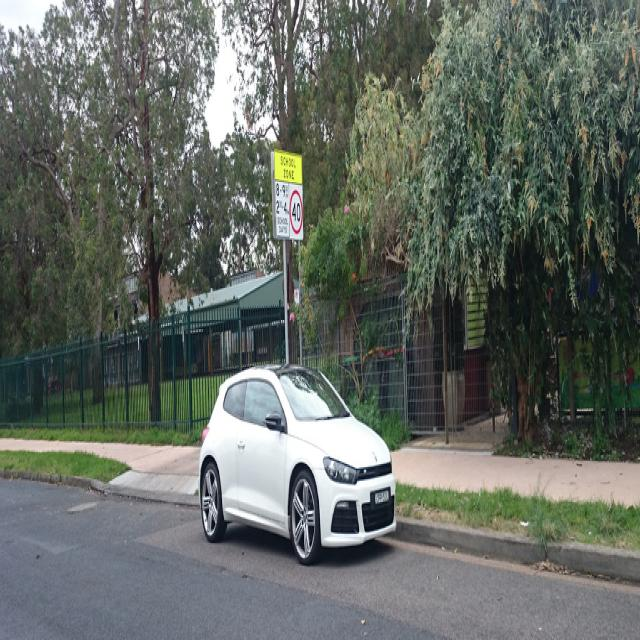car: (198, 354, 395, 571)
